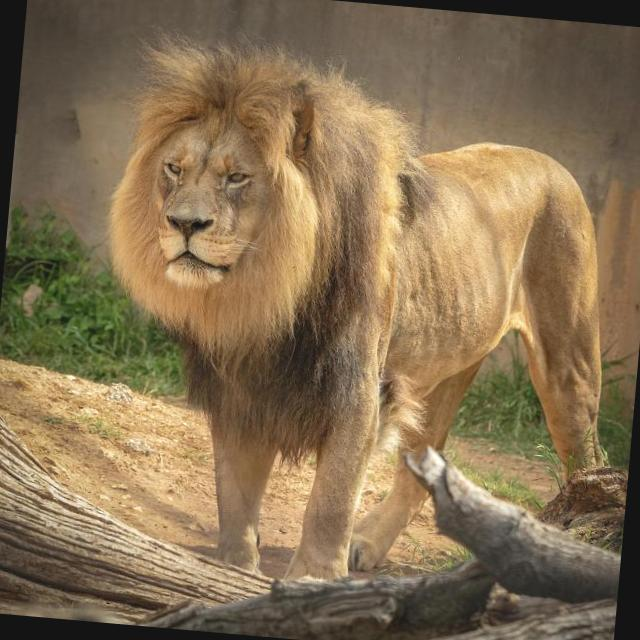lions: (40, 18, 640, 640)
